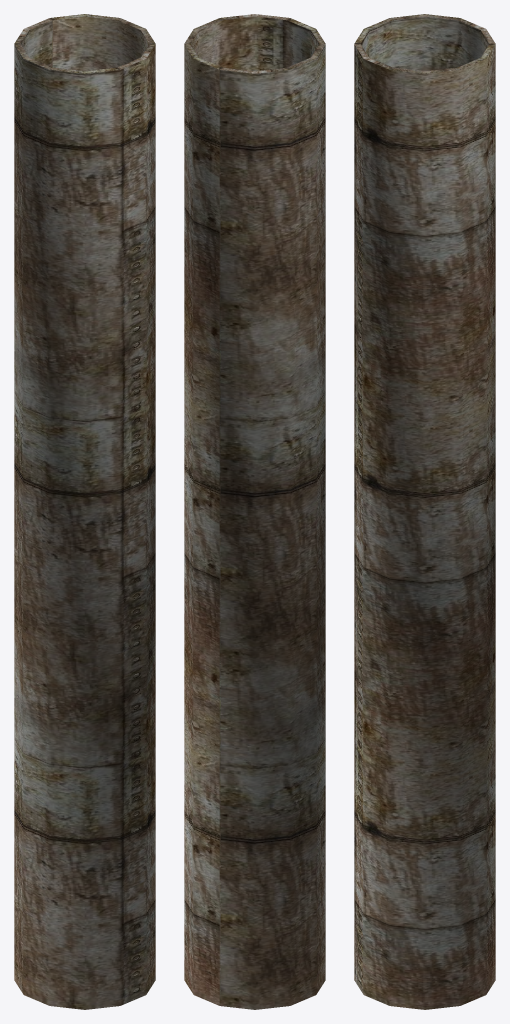
The model's file is railpipe06.glb.
3 views of the same model, side by side, from view 1: azimuth 30°, elevation 25°; view 2: azimuth 150°, elevation 25°; view 3: azimuth 270°, elevation 25° (orthographic).
Size of the model in its own units: 66 by 482 by 66.
Materials: 1 (1 with a texture image).
